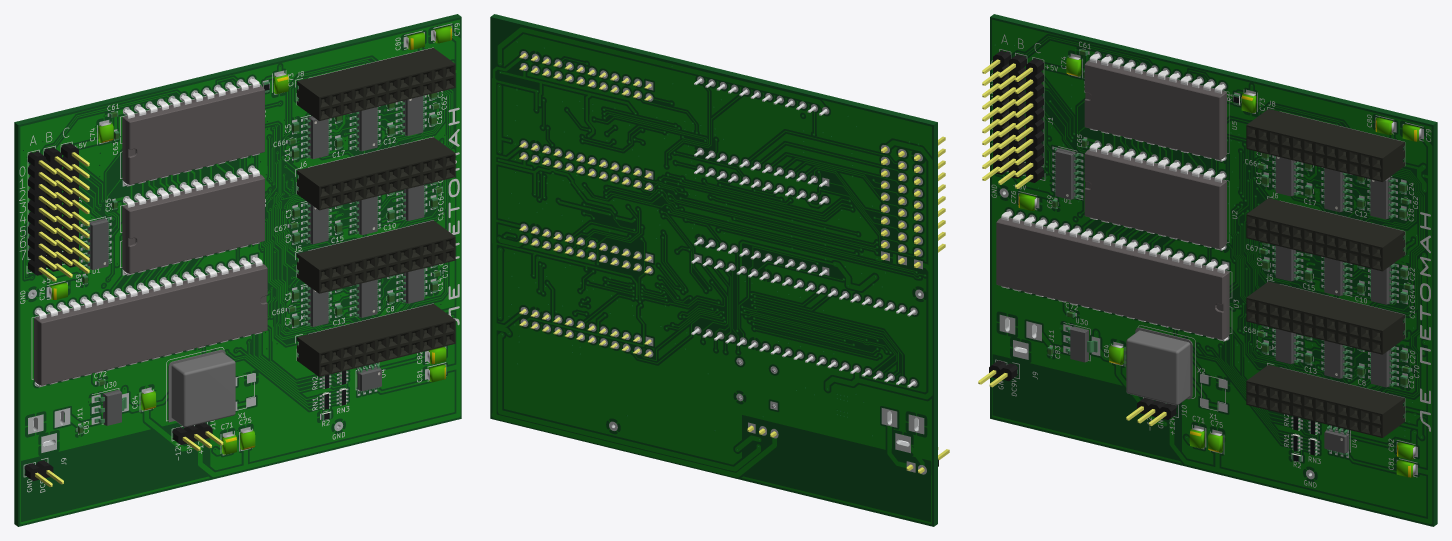
The model's file is board.gltf.
3 renders of one model, left to right at view 1: azimuth 30°, elevation 25°; view 2: azimuth 150°, elevation 25°; view 3: azimuth 330°, elevation 25°, orthographic.
Parts seen in each view (by area): view 1: Object_2011; view 2: Object_2011; view 3: Object_2011.
Part boxes in pixels (x1=…): Object_2011: x1=14, y1=14, x2=461, y2=526; Object_2011: x1=490, y1=14, x2=949, y2=526; Object_2011: x1=978, y1=14, x2=1437, y2=526.
Size of the model in its own units: 20.4 by 17.66 by 2.57.
